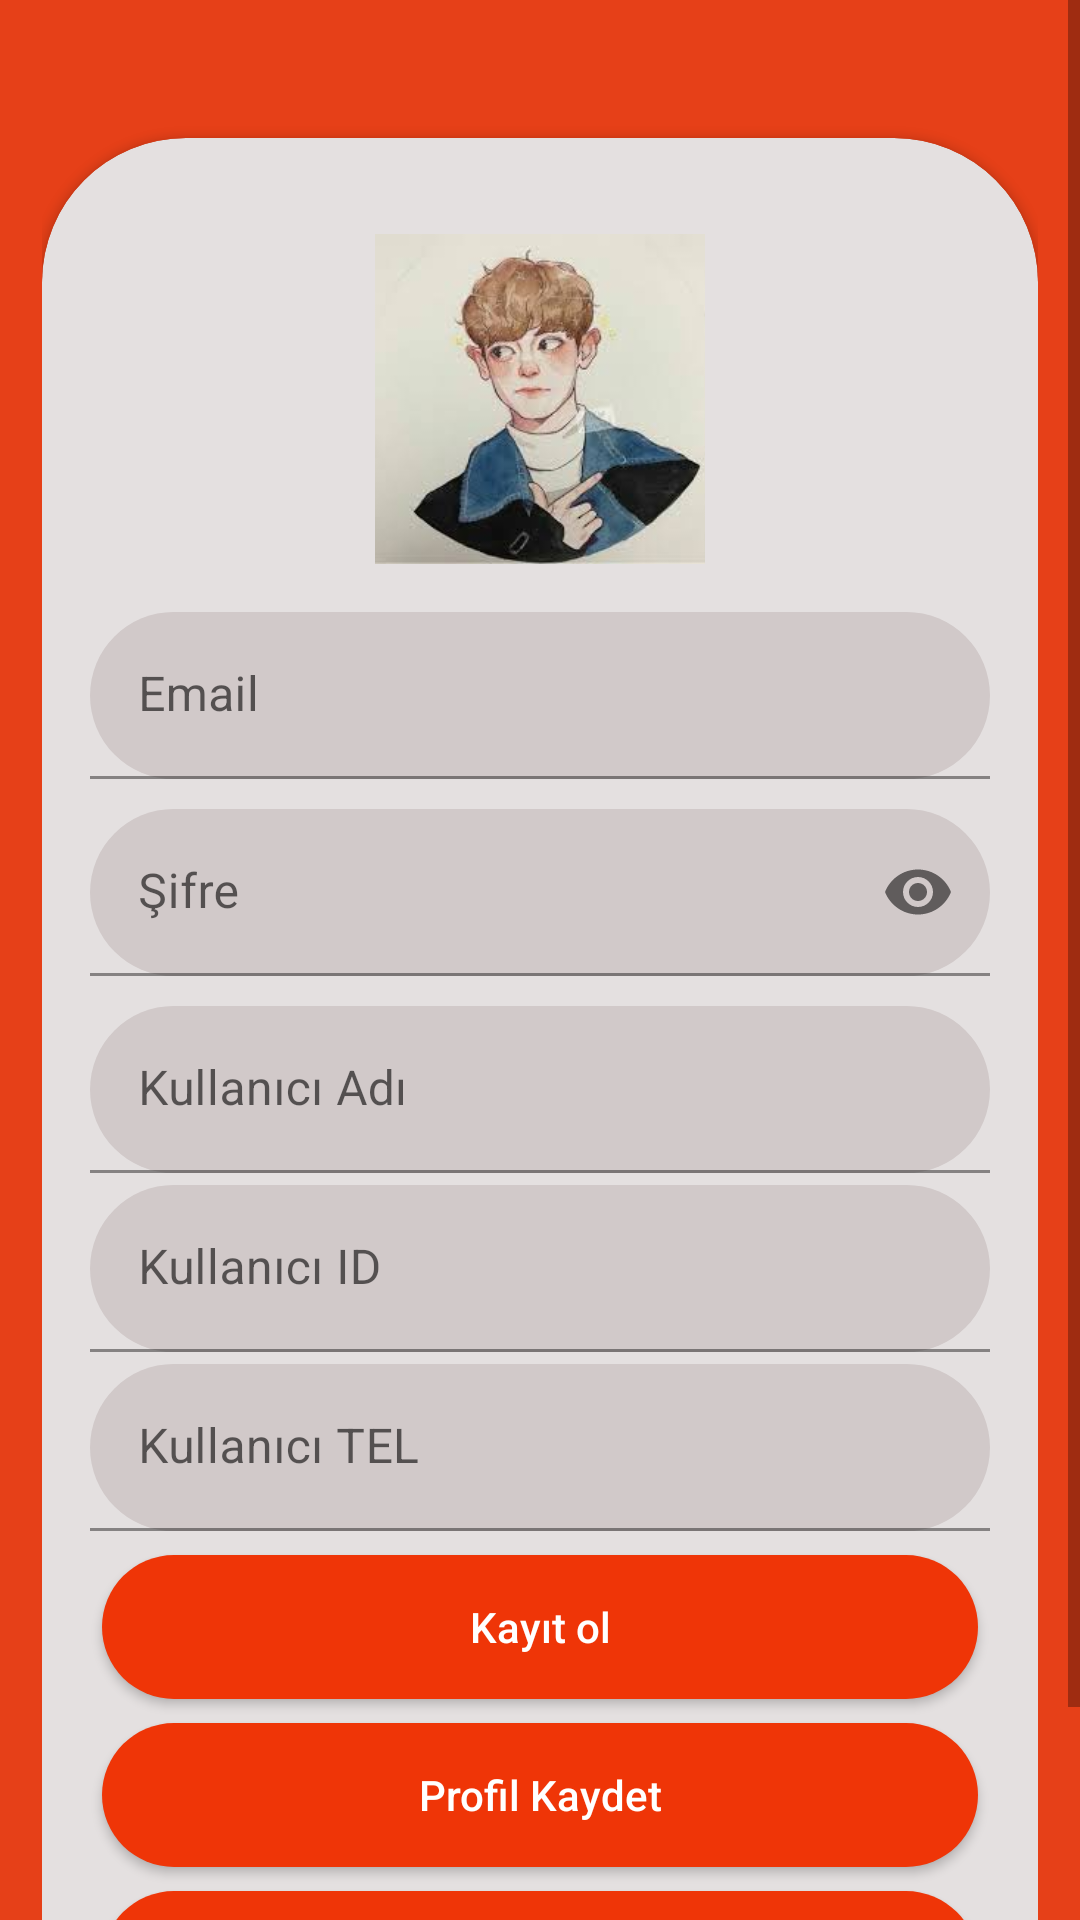

Icons on this 1080 x 1920 Android screen, each with its box as (x1, y1, x2, y2):
images: (375, 249, 705, 564)
